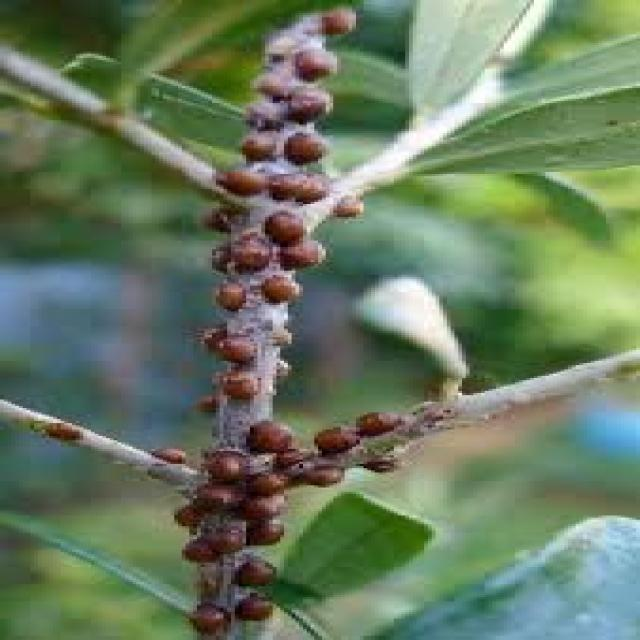Black Scale: (201, 9, 352, 417), (174, 412, 402, 638), (148, 447, 187, 466), (329, 193, 360, 215)
